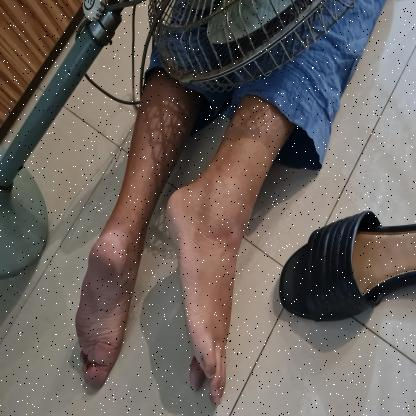leg: (71, 80, 199, 398), (159, 103, 287, 414)
